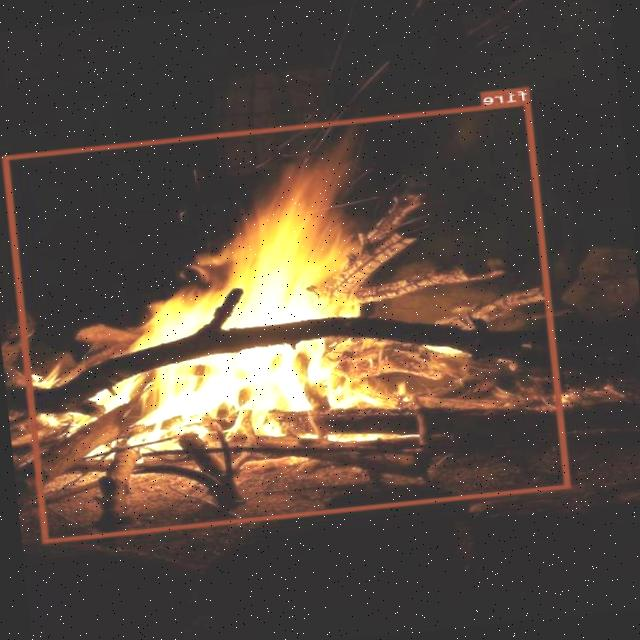fire: (3, 100, 572, 542)
